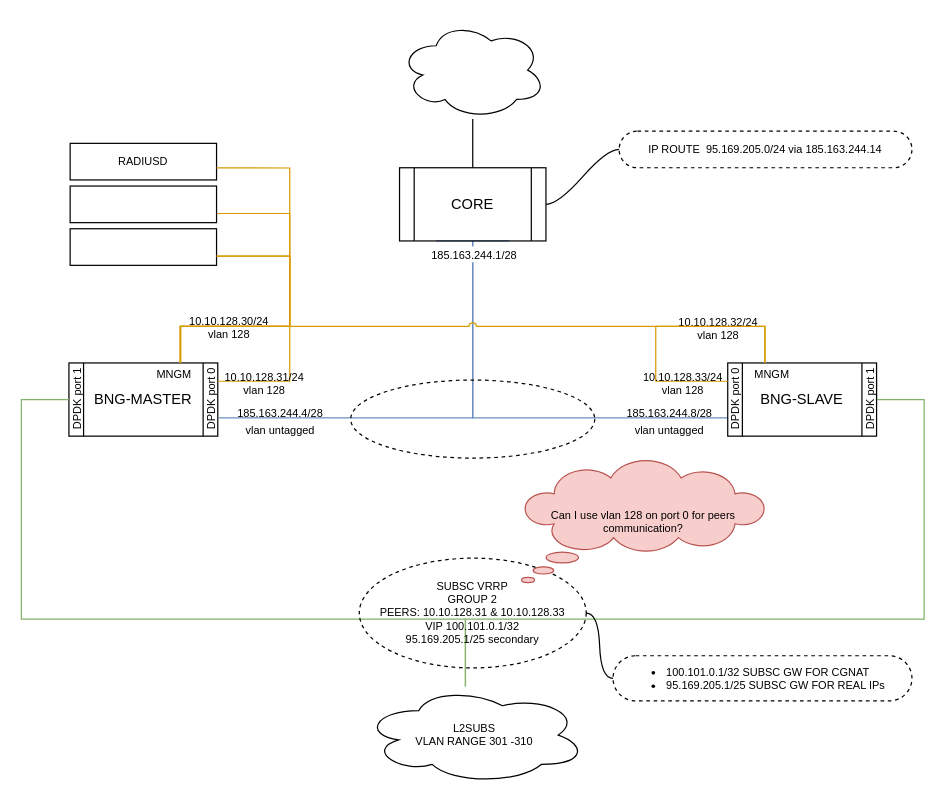
This 947x805 diagram has some shape labels left out. The centre of each missing label's shape, as x and y in pixels:
"CAPTIVE PORTAL" belongs at point (143, 204).
"DHCPD" belongs at point (143, 246).
"INTERNET" belongs at point (472, 69).
"VRRP GROUP 1 PEERS: 185.163.244.4 & 185.163.244.8 VIP 185.163.244.14/28" belongs at point (472, 418).
